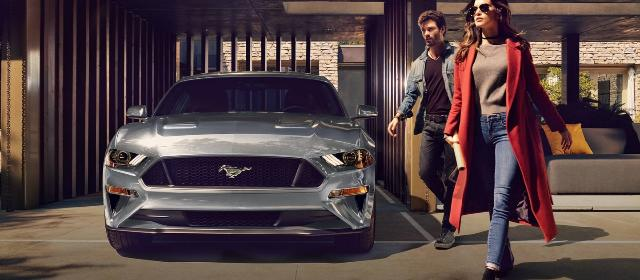ford-mustang: (103, 72, 377, 254)
